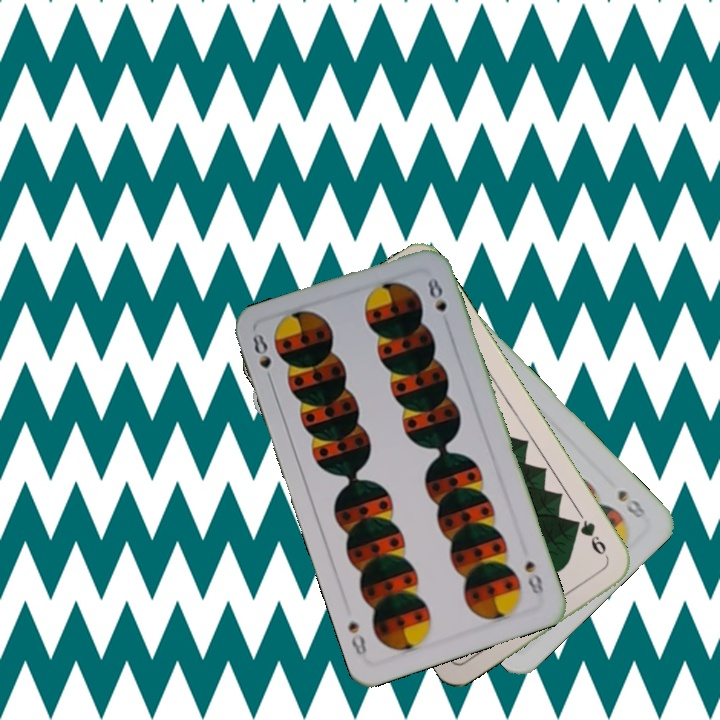G9: (568, 515, 609, 558)
S8: (248, 329, 276, 387), (613, 485, 649, 521), (520, 557, 547, 599)
